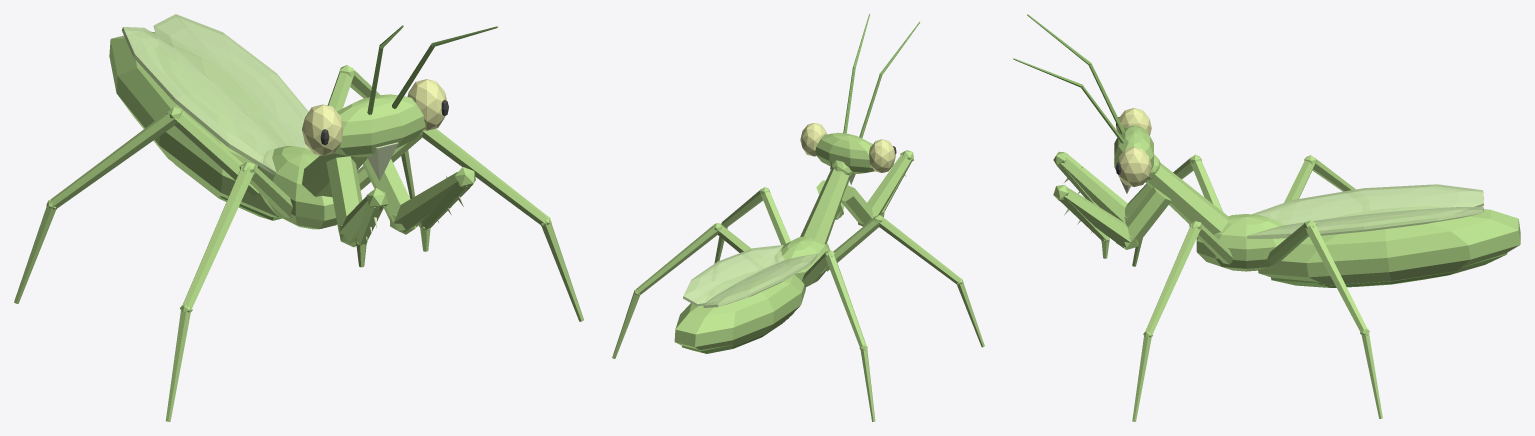
File: mante.glb
3 renders of one model, left to right at view 1: azimuth 30°, elevation 25°; view 2: azimuth 150°, elevation 25°; view 3: azimuth 270°, elevation 25°, orthographic. The views are drawn at different scales.
Parts seen in each view (by area): view 1: Mante_Body, Head, Leg_L2_1, Leg_R1_1, Leg_L1_1, Arm_L_0, Arm_R_1, Leg_L2_0, Arm_R_0, Arm_R_2, Leg_L1_2, Leg_L1_0 (+5 smaller); view 2: Mante_Body, Head, Arm_L_1, Leg_R2_1, Leg_L1_1, Leg_L2_1, Arm_L_0, Leg_L1_0, Leg_R1_0, Leg_R1_1, Leg_L2_2, Leg_R2_2 (+3 smaller); view 3: Mante_Body, Head, Arm_L_1, Arm_R_1, Leg_R2_1, Arm_R_0, Leg_R1_1, Leg_R2_0, Leg_R1_0, Leg_R1_2, Leg_R2_2, Arm_R_2 (+3 smaller).
Part boxes in pixels (x1,y1,x2,y2): Mante_Body: (109, 14, 367, 229); Head: (302, 79, 448, 180); Leg_L2_1: (49, 107, 182, 208); Leg_R1_1: (420, 128, 548, 225); Leg_L1_1: (182, 162, 256, 309); Arm_L_0: (326, 156, 362, 232); Arm_R_1: (389, 171, 463, 234); Leg_L2_0: (174, 111, 258, 196); Arm_R_0: (362, 158, 410, 222); Arm_R_2: (420, 167, 475, 229); Leg_L1_2: (165, 304, 192, 421); Leg_L1_0: (250, 166, 292, 218); Mante_Body: (674, 160, 853, 353); Head: (800, 123, 896, 184); Arm_L_1: (858, 153, 911, 226); Leg_R2_1: (635, 223, 721, 294); Leg_L1_1: (874, 215, 961, 284); Leg_L2_1: (824, 250, 866, 348); Arm_L_0: (841, 185, 872, 224); Leg_L1_0: (825, 217, 879, 271); Leg_R1_0: (761, 191, 790, 244); Leg_R1_1: (722, 187, 770, 227); Leg_L2_2: (859, 345, 875, 421); Leg_R2_2: (612, 289, 640, 358); Mante_Body: (1145, 154, 1520, 287); Head: (1114, 108, 1153, 193); Arm_L_1: (1060, 154, 1127, 222); Arm_R_1: (1064, 188, 1138, 249); Leg_R2_1: (1304, 220, 1367, 332); Arm_R_0: (1125, 187, 1171, 242); Leg_R1_1: (1145, 221, 1201, 334); Leg_R2_0: (1267, 224, 1308, 265); Leg_R1_0: (1197, 224, 1232, 264); Leg_R1_2: (1132, 331, 1152, 421); Leg_R2_2: (1360, 329, 1382, 418); Arm_R_2: (1053, 185, 1108, 241).
Size of the model in its own units: 6.13 by 5.7 by 8.33.
